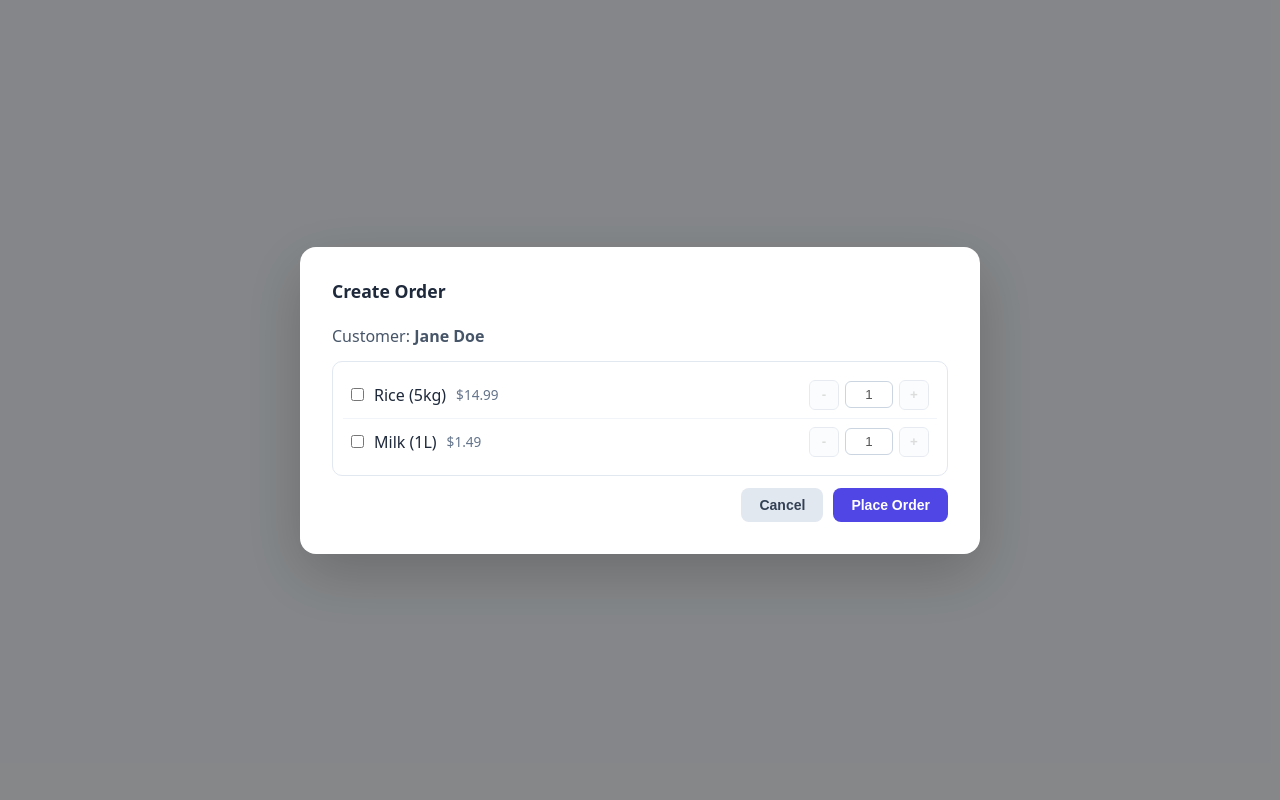
OrderForm › increments quantity when + is clicked
The width and height of the screenshot is (1280, 800).
Click the checkbox labelled "Rice (5kg) $14.99".
click(358, 394)  # box left=351, top=388, right=364, bottom=401
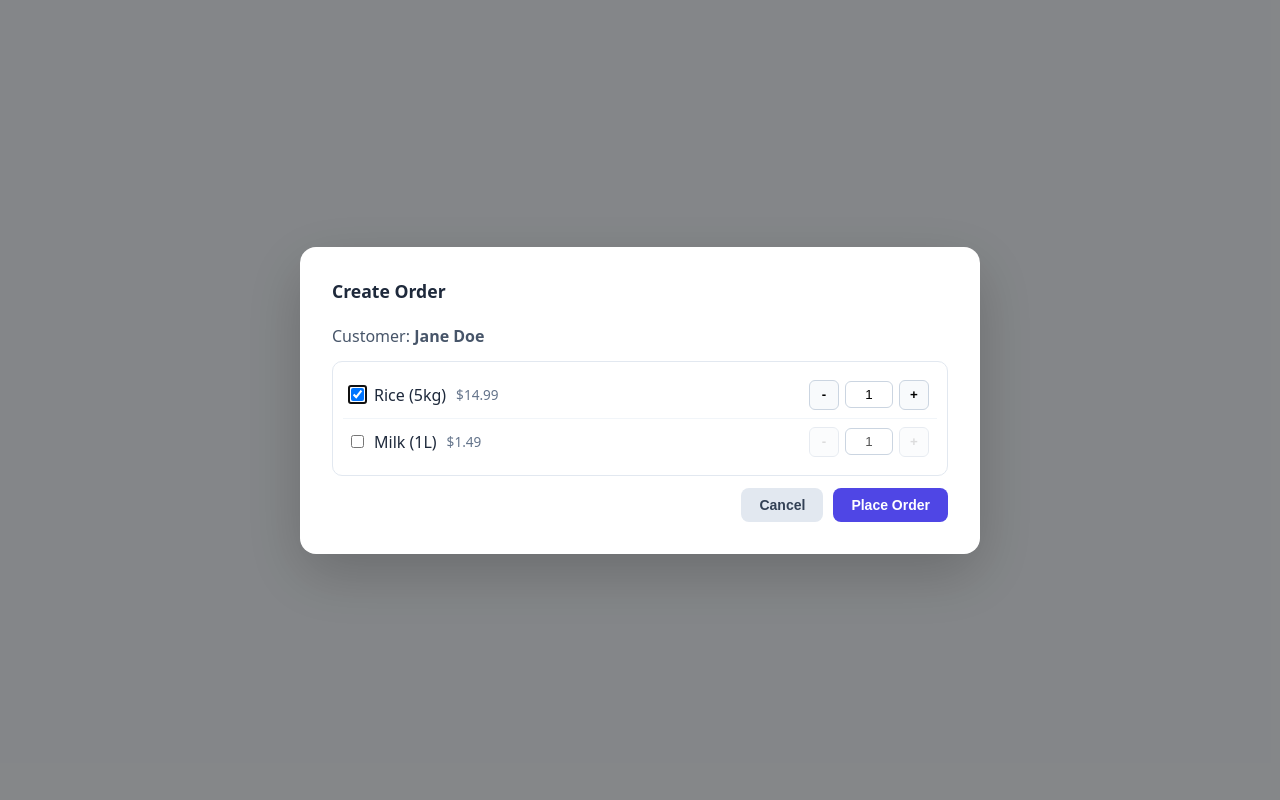
Click the button "+" in the row of "14.99".
click(914, 394)  # box left=899, top=380, right=929, bottom=410
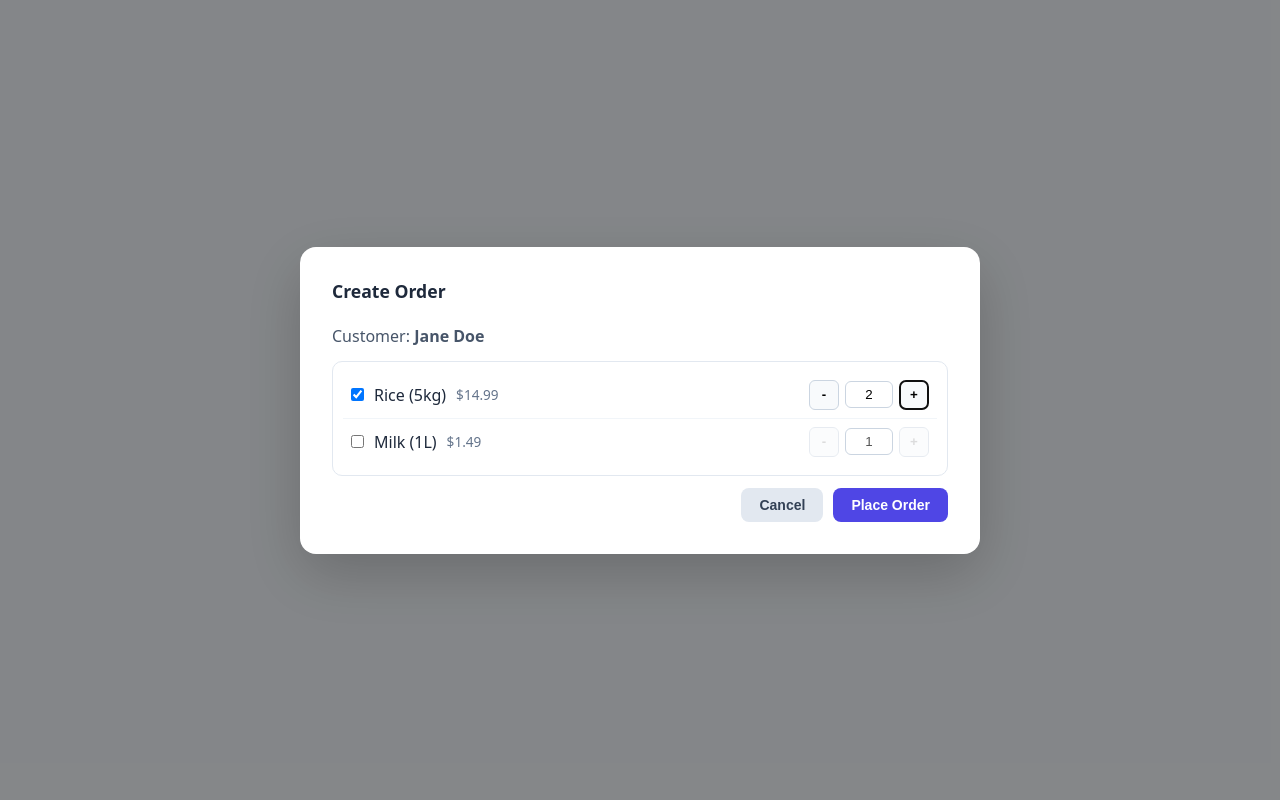
Check: the field in the row of "14.99" holds "2", box left=845, top=381, right=893, bottom=408
